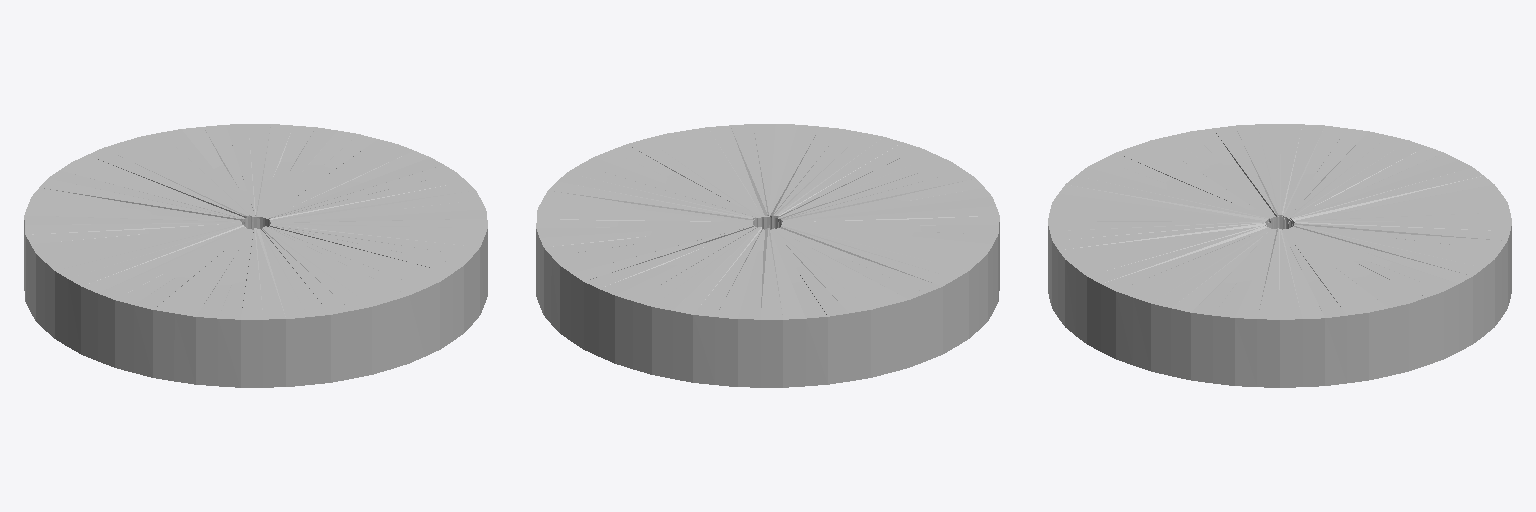
Rendered from car_bed_glass_white.obj.
3 views of the same model, side by side, from view 1: azimuth 30°, elevation 25°; view 2: azimuth 150°, elevation 25°; view 3: azimuth 270°, elevation 25° (orthographic).
Visible parts, largest first — view 1: Circle; view 2: Circle; view 3: Circle.
Part boxes in pixels (left/top/right/bottom): Circle: left=24, top=124, right=487, bottom=387; Circle: left=536, top=124, right=999, bottom=387; Circle: left=1048, top=124, right=1511, bottom=387.
Bounding box in the file's own units: 1.89 × 0.311 × 1.89.